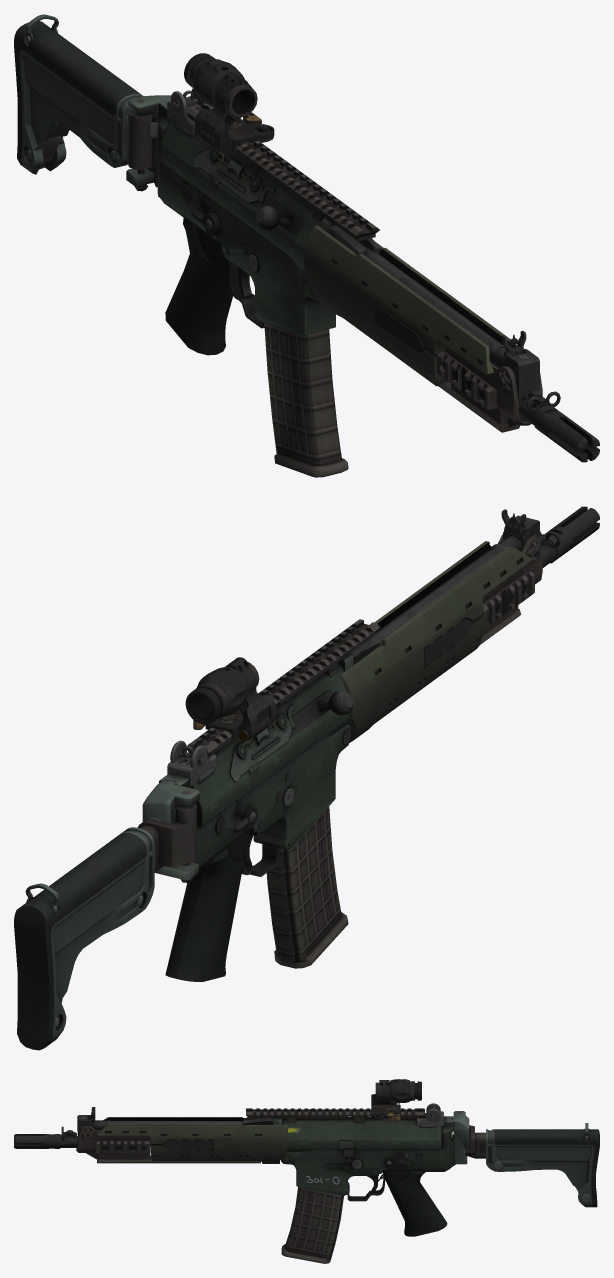
3 renders of one model, top to bottom at view 1: azimuth 30°, elevation 25°; view 2: azimuth 150°, elevation 25°; view 3: azimuth 270°, elevation 25°, orthographic. The views are drawn at different scales.
Parts seen in each view (by area): view 1: AK5C, AK5C_mag, _2xmag_optic, _2xmag_base, AK5C_bolt; view 2: AK5C, AK5C_mag, _2xmag_optic, AK5C_bolt, _2xmag_base; view 3: AK5C, AK5C_mag, _2xmag_optic, _2xmag_base.
Boxes of the visible parts, x1,y1,x2,y2 form: AK5C: (14,14,599,462); AK5C_mag: (264,322,348,477); _2xmag_optic: (184,53,257,155); _2xmag_base: (194,112,274,151); AK5C_bolt: (249,194,303,237); AK5C: (14,506,599,1050); AK5C_mag: (266,806,348,968); _2xmag_optic: (185,657,276,740); AK5C_bolt: (289,690,353,739); _2xmag_base: (193,709,270,741); AK5C: (14,1103,599,1236); AK5C_mag: (281,1187,343,1263); _2xmag_optic: (371,1079,421,1104); _2xmag_base: (371,1103,400,1121).
Bounding box in the file's own units: 7.08 × 29.75 × 87.59.
Materials: 3 (2 with a texture image).
